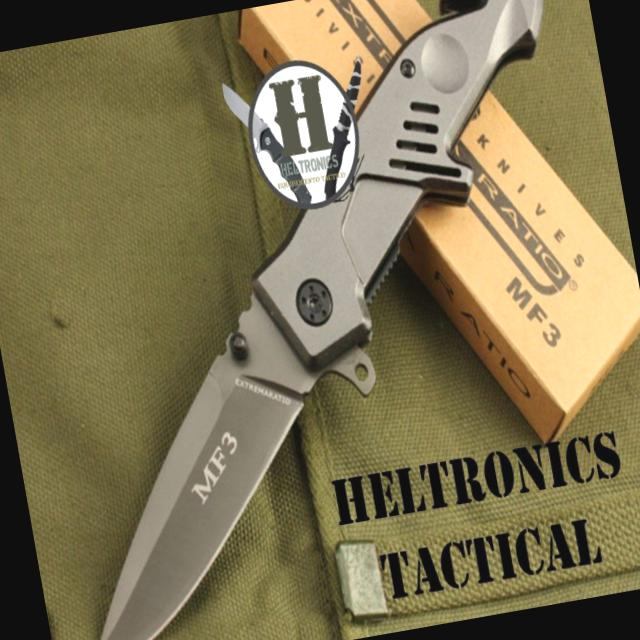knife: (19, 290, 350, 639)
